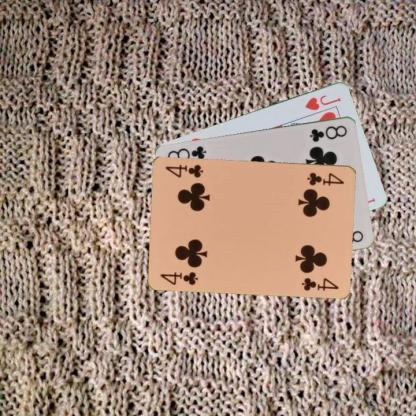4c: (304, 169, 346, 187), (158, 269, 199, 286)
8c: (307, 122, 348, 142)
Jh: (302, 92, 343, 111)
